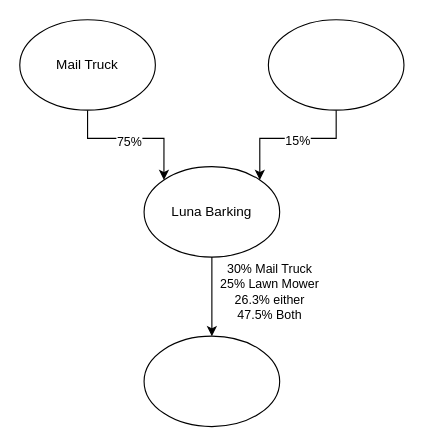
Some shapes in this 424 by 446 pixel diagram are drawn without their labels. Here are the shapes that lost their labels. From the top down, the box of each, then its label:
(267, 19, 404, 110): Lawn Mower
(143, 335, 280, 427): Marco Perturbed 35% of the time Luna Barks
